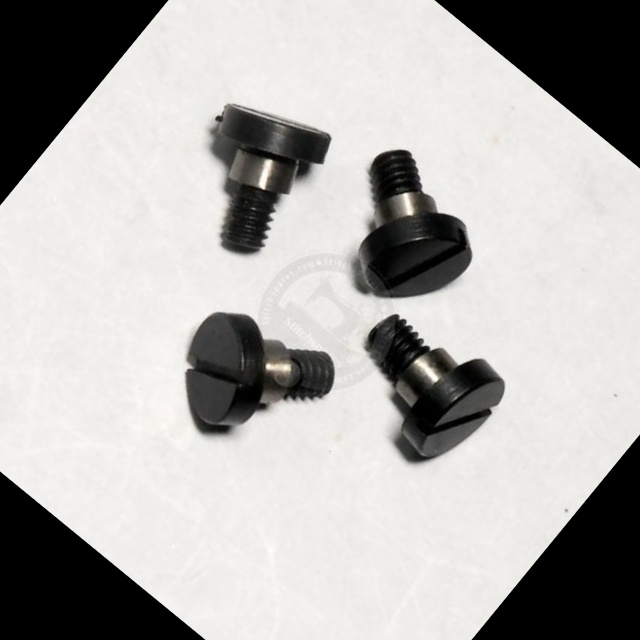duz: (344, 185, 489, 332), (150, 309, 282, 443), (398, 352, 515, 478)
